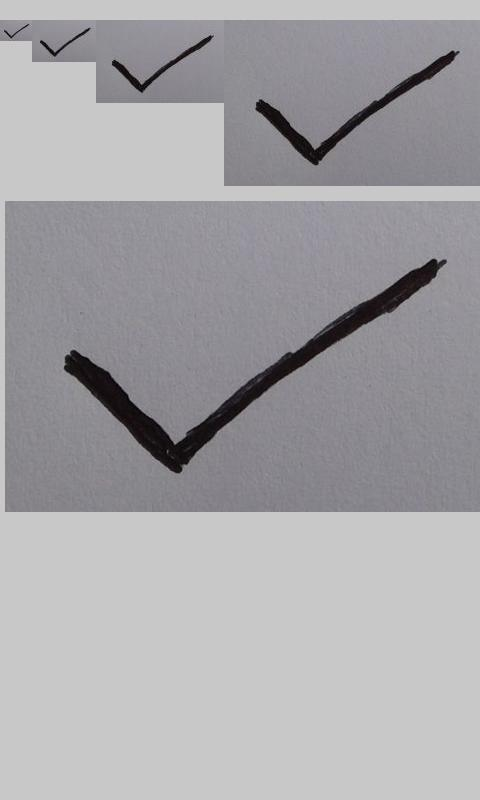check_box: (63, 258, 443, 475), (256, 50, 458, 164), (112, 36, 212, 92), (40, 28, 91, 56), (4, 24, 29, 38)
